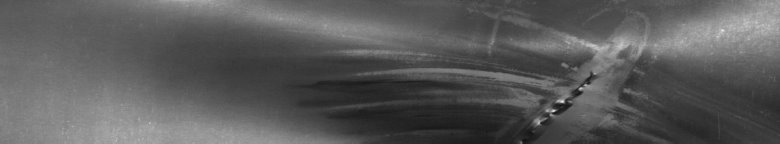ke: (268, 8, 725, 136)
